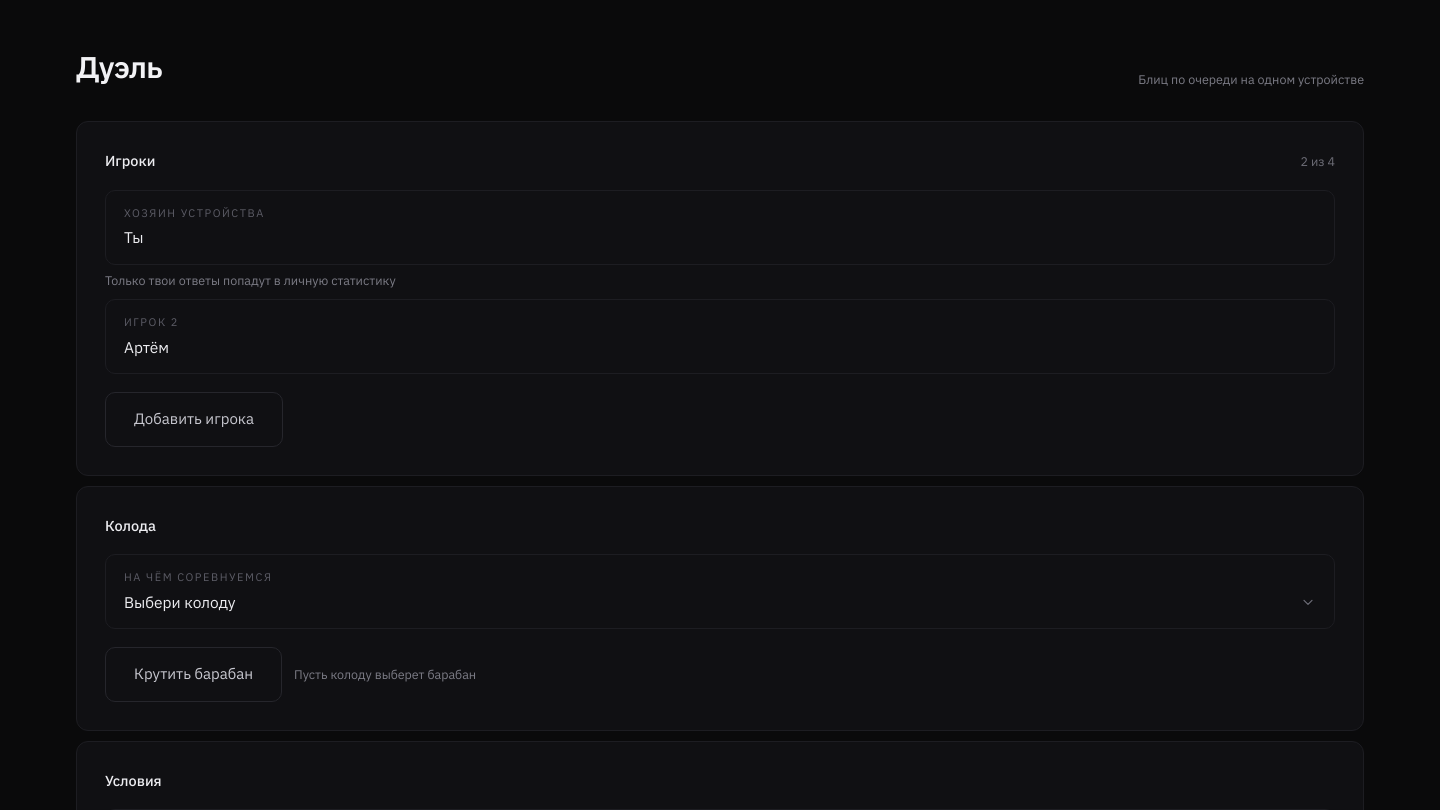
Test: дуэль › не даёт начать дуэль на колоде, в которой мало карточек
The width and height of the screenshot is (1440, 810).
Select "Матанализ · 40" in the dropdown labelled "На чём соревнуемся" at coordinates (720, 602), box [124,591,1316,614]
(page scrolled)
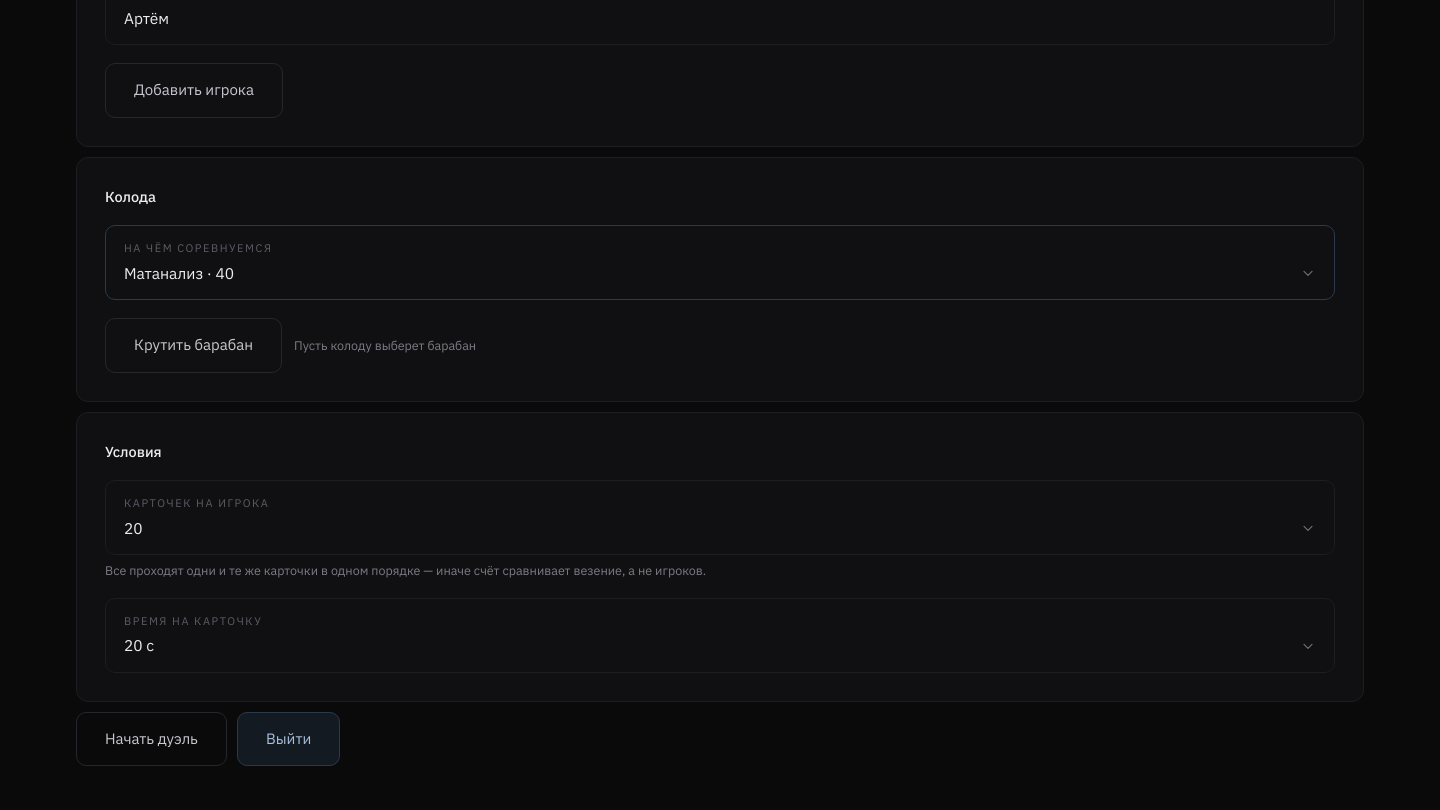
Select "50" in the dropdown labelled "Карточек на игрока" at coordinates (720, 528), box [124,517,1316,540]
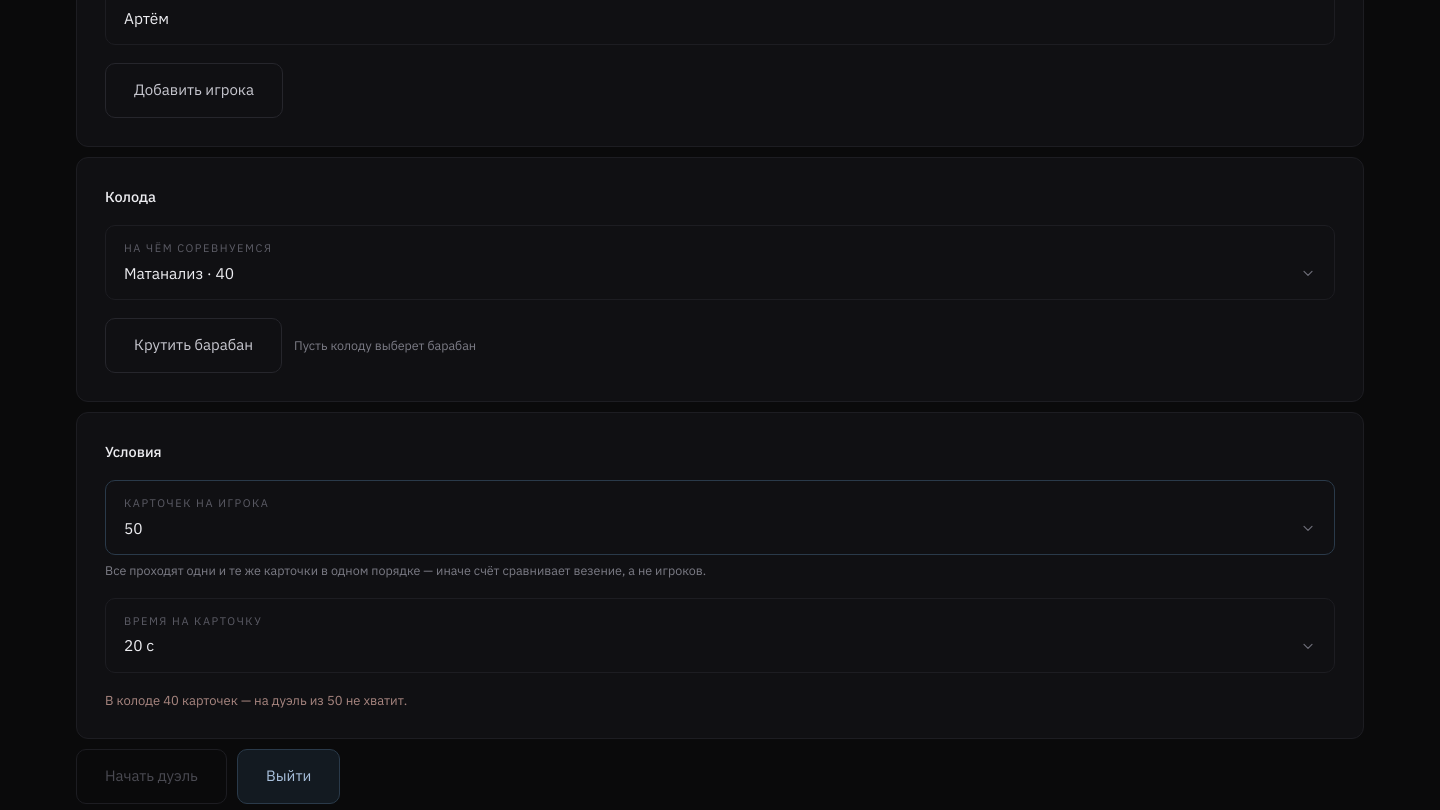
Check: the text "В колоде 40 карточек — на дуэль из 50 не хватит." is shown, box [105,692,407,708]
Check: the button "Начать дуэль" is disabled, box [76,749,227,804]
